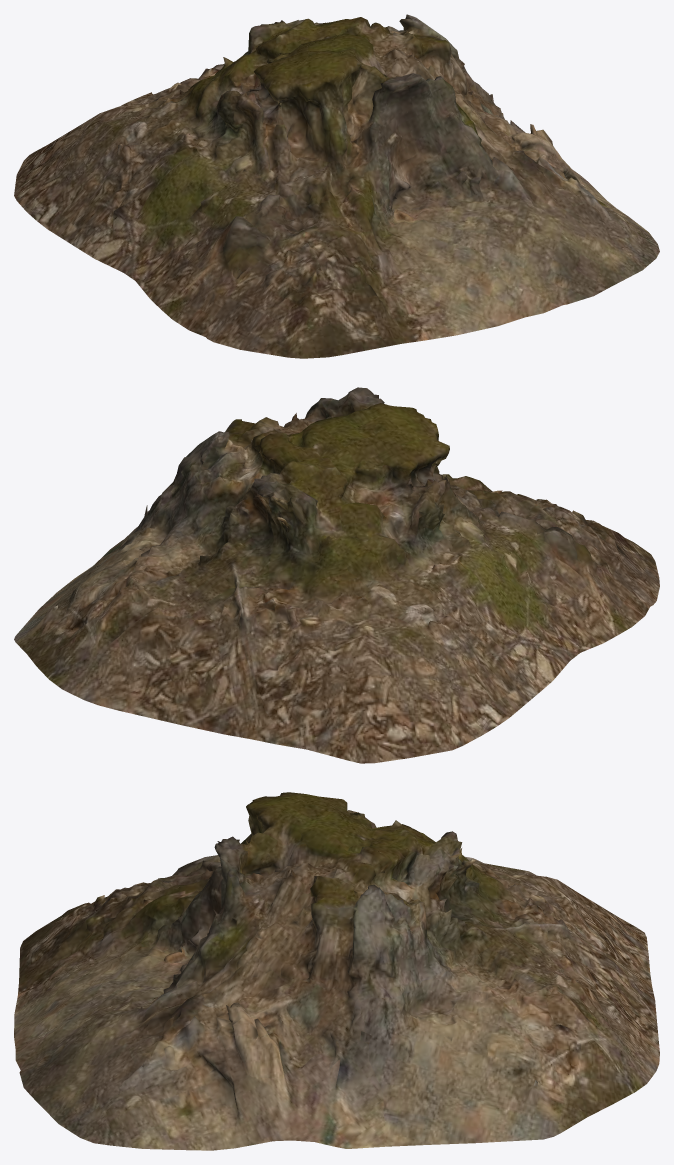
The model's file is stump.glb.
3 renders of one model, top to bottom at view 1: azimuth 30°, elevation 25°; view 2: azimuth 150°, elevation 25°; view 3: azimuth 270°, elevation 25°, orthographic. The views are drawn at different scales.
Visible parts, largest first — view 1: tree_stump_01; view 2: tree_stump_01; view 3: tree_stump_01.
Part boxes in pixels (<box>): tree_stump_01: <box>14,14,659,358</box>; tree_stump_01: <box>14,387,659,763</box>; tree_stump_01: <box>14,792,659,1150</box>.
Size of the model in its own units: 1.43 by 0.5725 by 1.59.
Materials: 1 (1 with a texture image).
